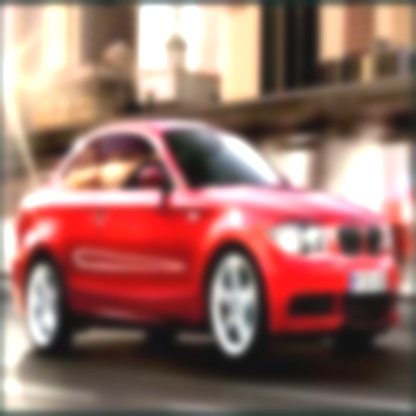Vehicle: (8, 125, 402, 359)
